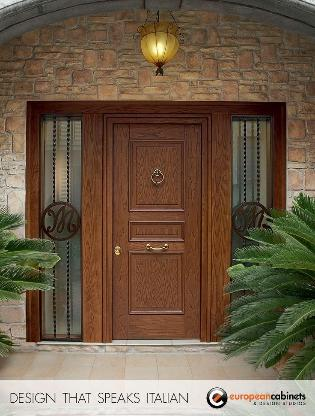door: (19, 96, 292, 349)
